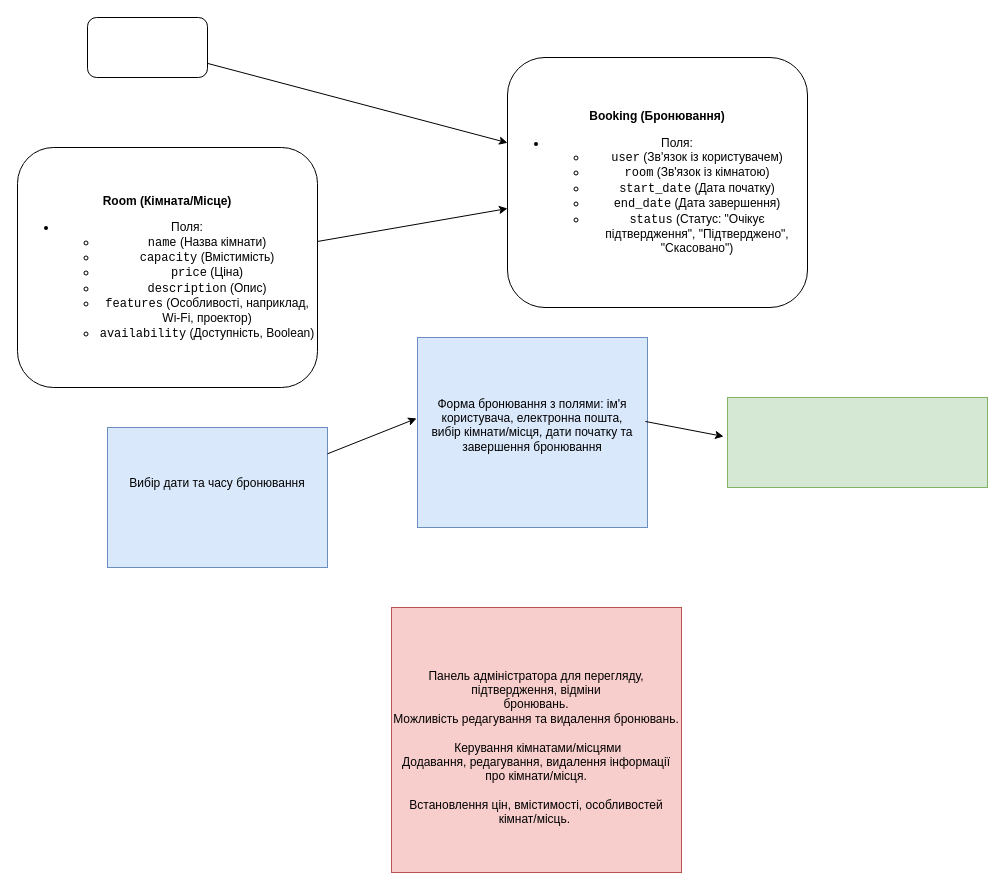
Image size: 1005x890. Some labels were removed from this diagram. Each missing label, with the centre of its shape:
Підтвердження бронювання через електронну пошту.: [857,442]
Юзер: [147,47]
